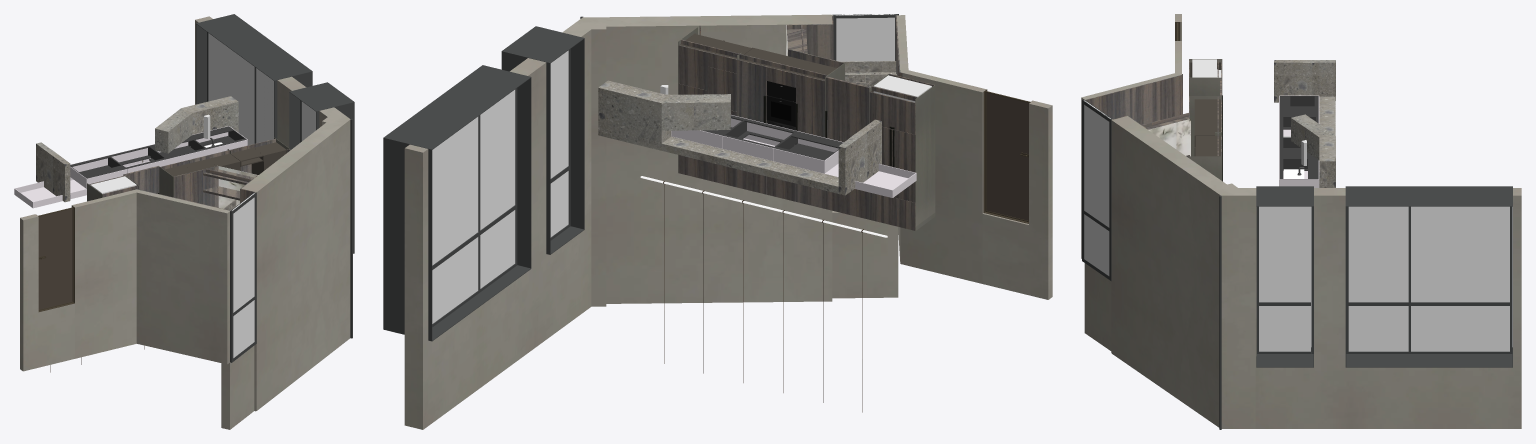
File: Culimaat BM.glb
3 renders of one model, left to right at view 1: azimuth 30°, elevation 25°; view 2: azimuth 150°, elevation 25°; view 3: azimuth 270°, elevation 25°, orthographic. The views are drawn at different scales.
Visible parts, largest first — view 1: Samenvoeging_volumes_5, Samenvoeging_volumes_2, Extrusie_20, Extrusie_25, Extrusie_23, Extrusie, Extrusie_43, Samenvoeging_volumes, Uitsnijding_volumes_Schappen_hout, Extrusie_40, Uitsnijding_volumes_Werkblad3, Extrusie_24 (+15 smaller); view 2: Samenvoeging_volumes_2, Samenvoeging_volumes_5, Extrusie_20, Extrusie_7, Extrusie_25, Extrusie_23, Extrusie_16, Polygon_267, Extrusie_hogekasten_8, Extrusie_6, Extrusie_4, Extrusie (+25 smaller); view 3: Samenvoeging_volumes_2, Extrusie_20, Extrusie_16, Extrusie_23, Extrusie_Schappen_hout_36, Extrusie, Extrusie_8, Extrusie_43, Samenvoeging_volumes, Extrusie_24, Extrusie_2, Extrusie_40 (+17 smaller).
Boxes of the visible parts, x1,y1,x2,y2 form: Samenvoeging_volumes_5: (20,189,229,371); Samenvoeging_volumes_2: (195,16,350,429); Extrusie_20: (208,33,273,145); Extrusie_25: (38,208,72,309); Extrusie_23: (196,14,312,80); Extrusie: (232,193,254,312); Extrusie_43: (36,142,70,202); Samenvoeging_volumes: (230,192,256,362); Uitsnijding_volumes_Schappen_hout: (174,166,218,207); Extrusie_40: (155,108,192,153); Uitsnijding_volumes_Werkblad3: (14,142,219,208); Extrusie_24: (289,82,354,111); Samenvoeging_volumes_2: (404,14,898,429); Samenvoeging_volumes_5: (896,15,1052,299); Extrusie_20: (432,89,515,323); Extrusie_7: (383,138,432,340); Extrusie_25: (986,93,1028,220); Extrusie_23: (383,65,531,149); Extrusie_16: (550,50,568,237); Polygon_267: (598,88,671,150); Extrusie_hogekasten_8: (915,85,935,230); Extrusie_6: (517,78,531,268); Extrusie_4: (570,39,584,229); Extrusie: (836,14,894,86); Samenvoeging_volumes_2: (1084,116,1521,428); Extrusie_20: (1348,206,1509,351); Extrusie_16: (1259,206,1310,351); Extrusie_23: (1345,186,1512,206); Extrusie_Schappen_hout_36: (1085,74,1182,124); Extrusie: (1084,100,1110,227); Extrusie_8: (1346,347,1512,367); Extrusie_43: (1274,60,1335,102); Samenvoeging_volumes: (1082,99,1112,281); Extrusie_24: (1256,186,1313,206); Extrusie_2: (1084,214,1109,275); Extrusie_40: (1291,114,1334,160).
Size of what is drawn, in the model's own units: 9.61 by 5.44 by 9.29.
25 materials, 10 textured.
